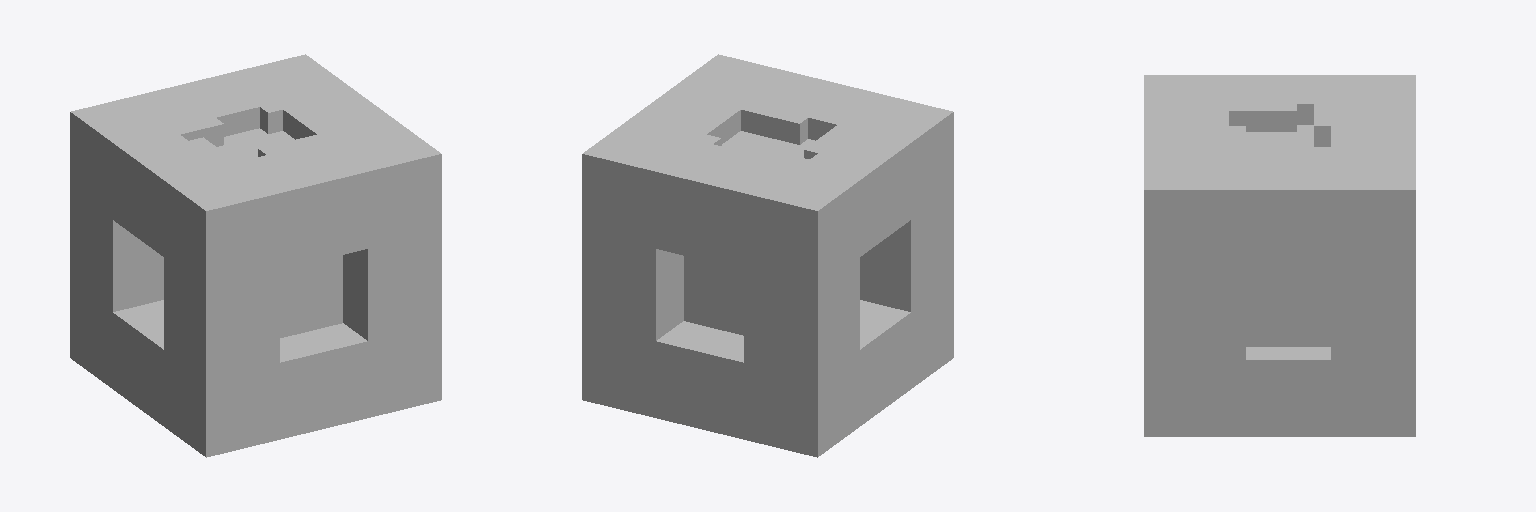
File: Desired Part.obj
3 renders of one model, left to right at view 1: azimuth 30°, elevation 25°; view 2: azimuth 150°, elevation 25°; view 3: azimuth 270°, elevation 25°, orthographic.
Parts seen in each view (by area): view 1: Cube; view 2: Cube; view 3: Cube.
Boxes of the visible parts, box(x1,y1,x2,y2) form: Cube: box(70, 54, 441, 457); Cube: box(582, 54, 953, 457); Cube: box(1144, 75, 1415, 436).
Bounding box in the file's own units: 2 × 2 × 2.